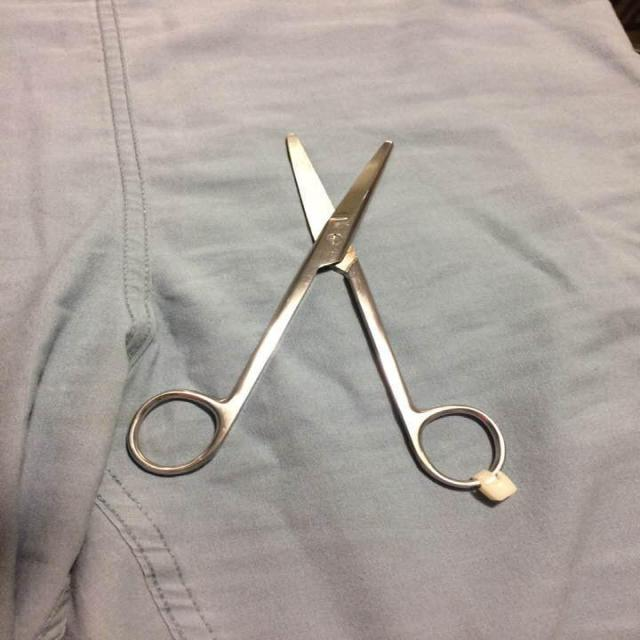Mayo_metz: (120, 125, 511, 493)
